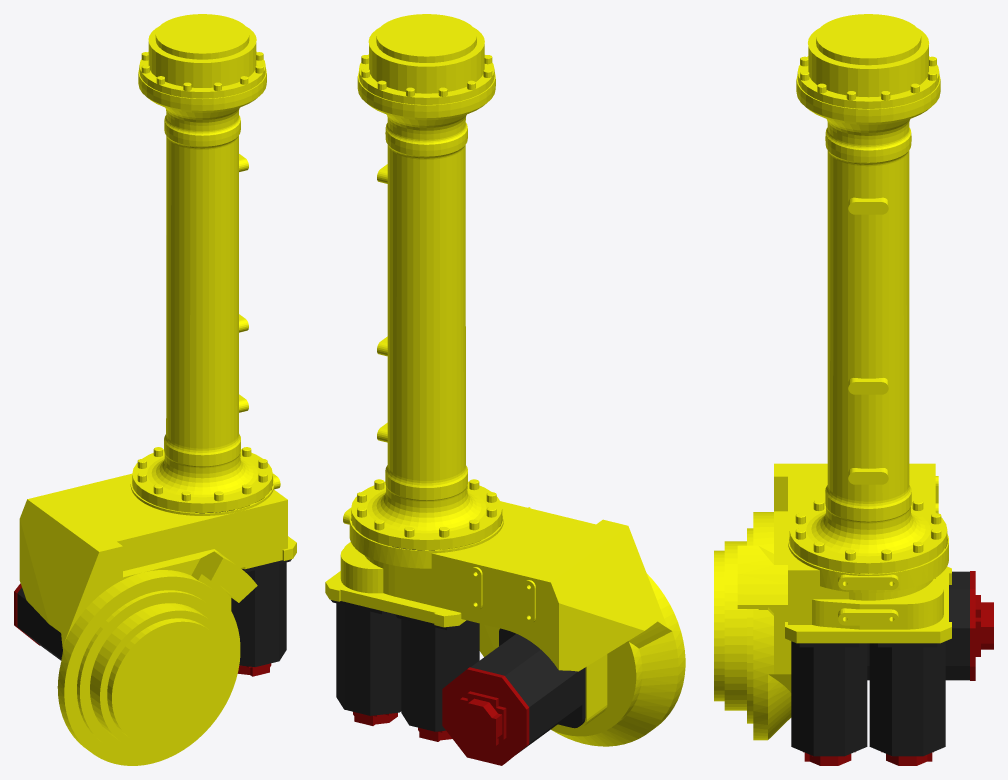
3 views of the same model, side by side, from view 1: azimuth 30°, elevation 25°; view 2: azimuth 150°, elevation 25°; view 3: azimuth 270°, elevation 25° (orthographic). The views are drawn at different scales.
Parts seen in each view (by area): view 1: node; view 2: node; view 3: node.
Boxes of the visible parts, x1,y1,x2,y2 form: node: (14, 14, 296, 765); node: (325, 14, 685, 765); node: (714, 14, 993, 765).
Bounding box in the file's own units: 563 × 1414 × 479.
